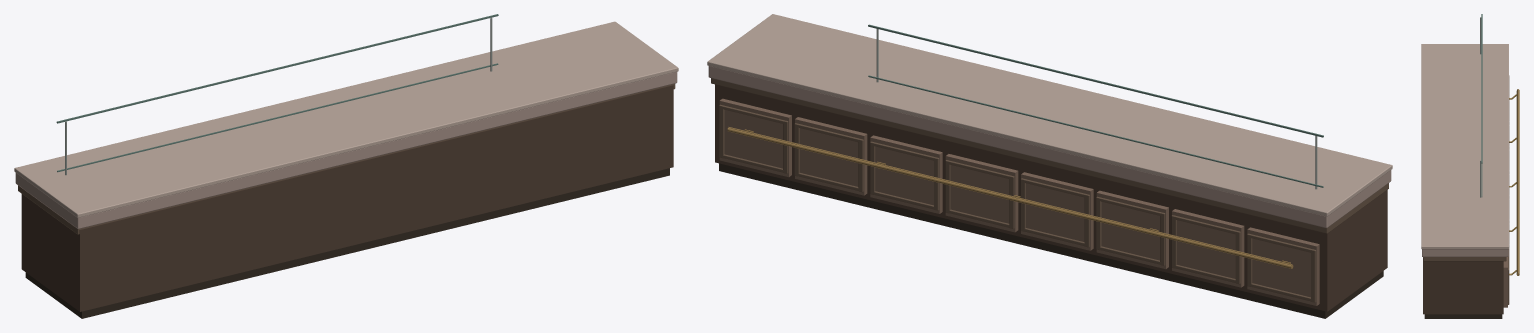
The model's file is bar.glb.
3 renders of one model, left to right at view 1: azimuth 30°, elevation 25°; view 2: azimuth 150°, elevation 25°; view 3: azimuth 270°, elevation 25°, orthographic. The views are drawn at different scales.
Parts seen in each view (by area): view 1: Gelati_bar; view 2: Gelati_bar; view 3: Gelati_bar.
Part boxes in pixels (box(x1,y1,x2,y2)): Gelati_bar: box(14, 14, 678, 318); Gelati_bar: box(707, 14, 1392, 318); Gelati_bar: box(1421, 14, 1519, 318).
Bounding box in the file's own units: 6.1 × 1.58 × 1.25.
